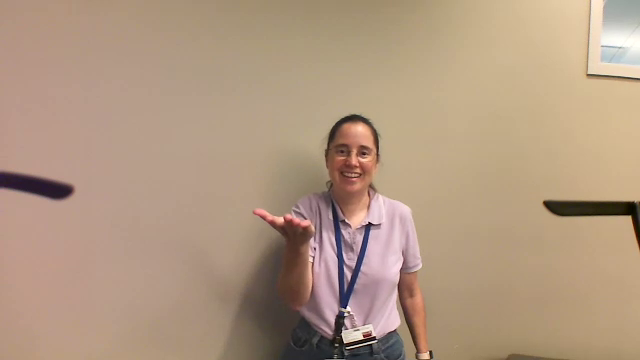land: (247, 202, 328, 252)
